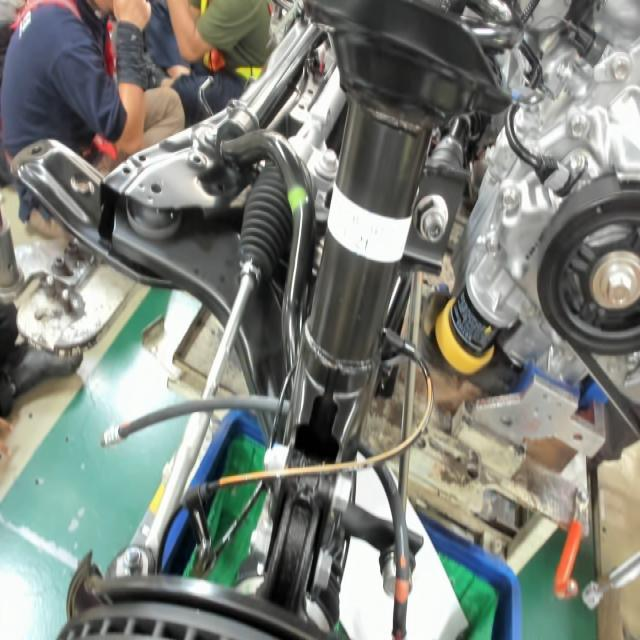Bar Stabilizer-HJ: (284, 179, 311, 214)
